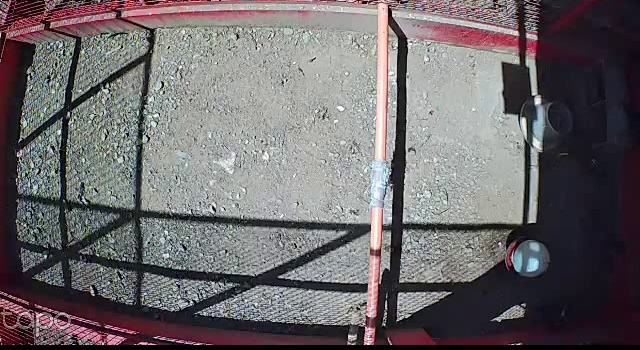Drinker: (504, 236, 550, 277)
Feeder: (518, 92, 577, 154)
